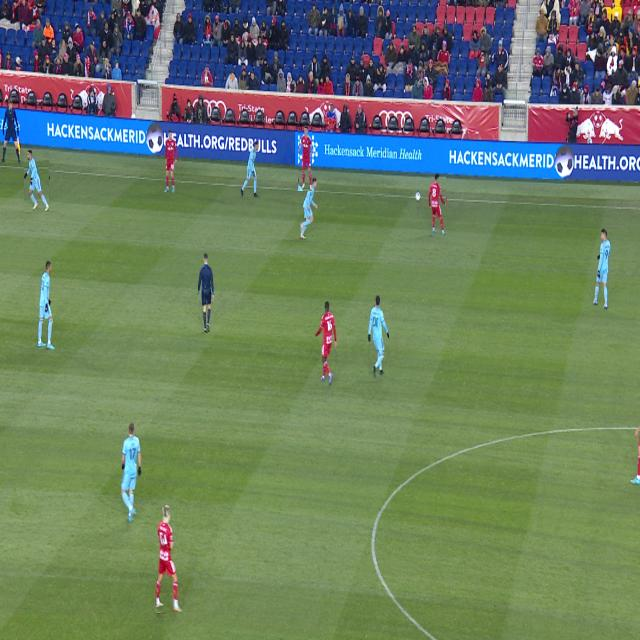football: (415, 191, 421, 202)
player: (156, 506, 183, 612), (121, 422, 142, 523), (315, 301, 337, 386), (368, 296, 389, 379), (38, 261, 55, 349), (25, 150, 49, 212), (593, 228, 611, 309), (300, 178, 318, 239), (241, 141, 259, 198), (429, 175, 446, 235), (299, 125, 312, 191), (164, 131, 177, 193), (630, 435, 640, 485)
referee: (198, 253, 214, 332)
